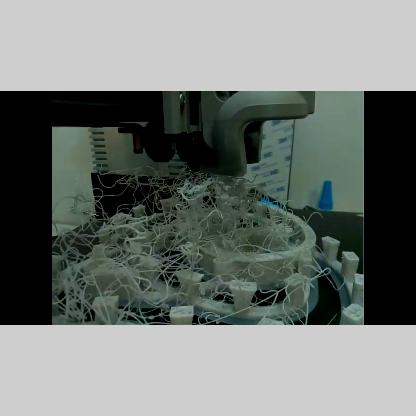fail: (52, 170, 318, 324)
